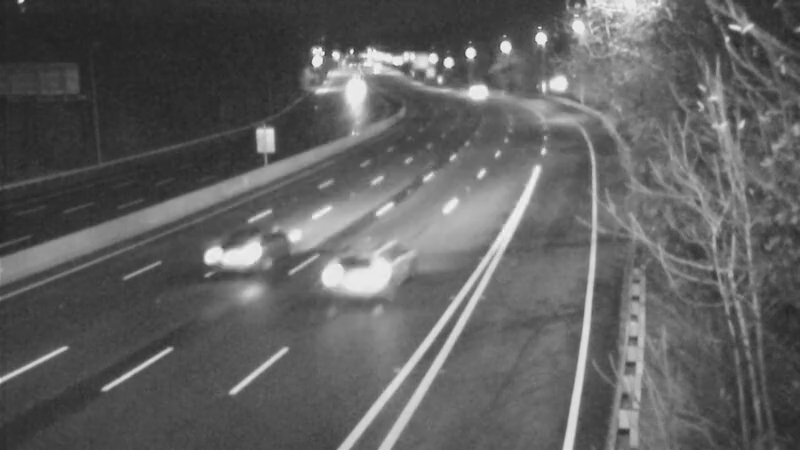vehicle: (312, 239, 392, 319), (192, 212, 272, 292), (450, 65, 500, 115), (327, 67, 377, 117)
